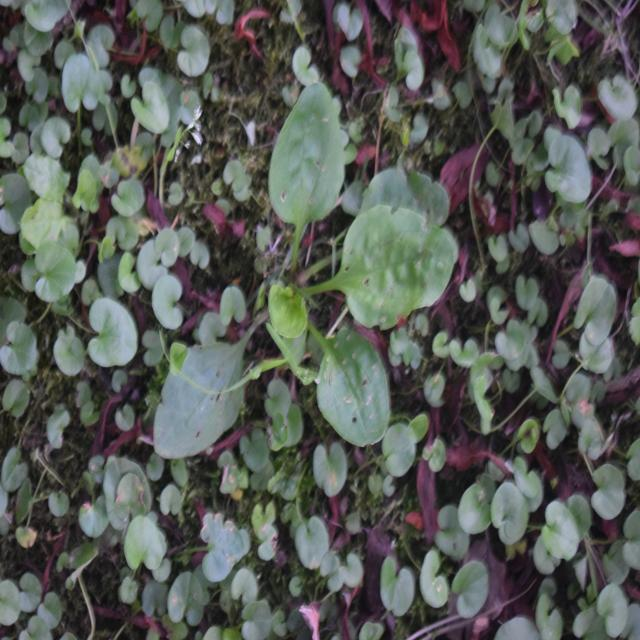plantain: (146, 94, 456, 463)
